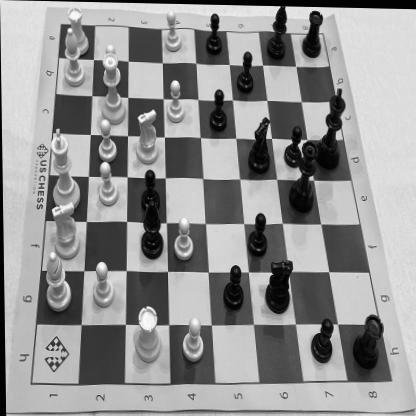black-bishop: (136, 198, 166, 261), (266, 5, 290, 61)
black-king: (316, 84, 348, 169)
black-knight: (263, 254, 293, 314), (245, 113, 272, 176)
black-pawn: (306, 314, 334, 364), (243, 208, 269, 259), (222, 260, 244, 310), (138, 167, 160, 214), (204, 10, 226, 56), (208, 85, 228, 134), (282, 123, 302, 170), (236, 49, 255, 96)
black-queen: (287, 140, 318, 219)
black-rook: (349, 310, 384, 370), (300, 6, 326, 58)
white-bishop: (42, 251, 73, 313), (61, 28, 86, 89)
white-king: (48, 126, 80, 212)
white-knight: (49, 201, 82, 260), (134, 108, 160, 165)
white-pawn: (178, 314, 204, 366), (90, 260, 116, 310), (95, 158, 119, 208), (164, 76, 186, 124), (172, 214, 194, 262), (97, 118, 119, 165), (100, 42, 122, 86), (162, 8, 183, 53)
white-queen: (98, 52, 128, 126)
white-rook: (132, 302, 162, 365), (66, 5, 90, 57)
